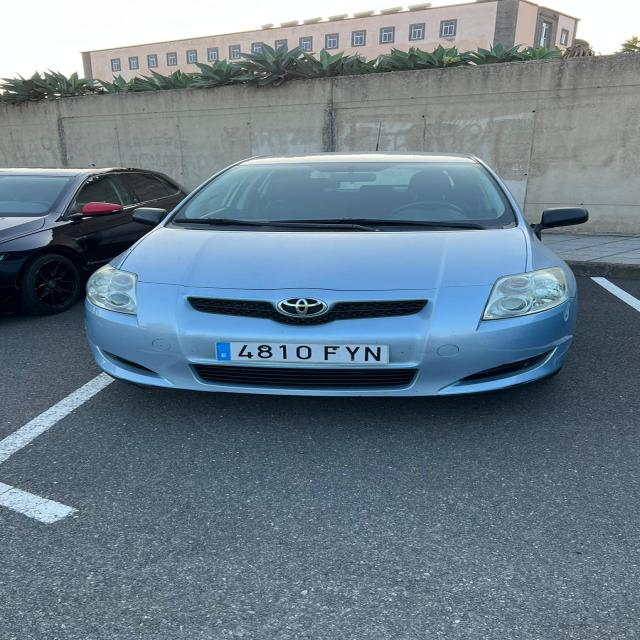License-Plate: (214, 339, 391, 367)
